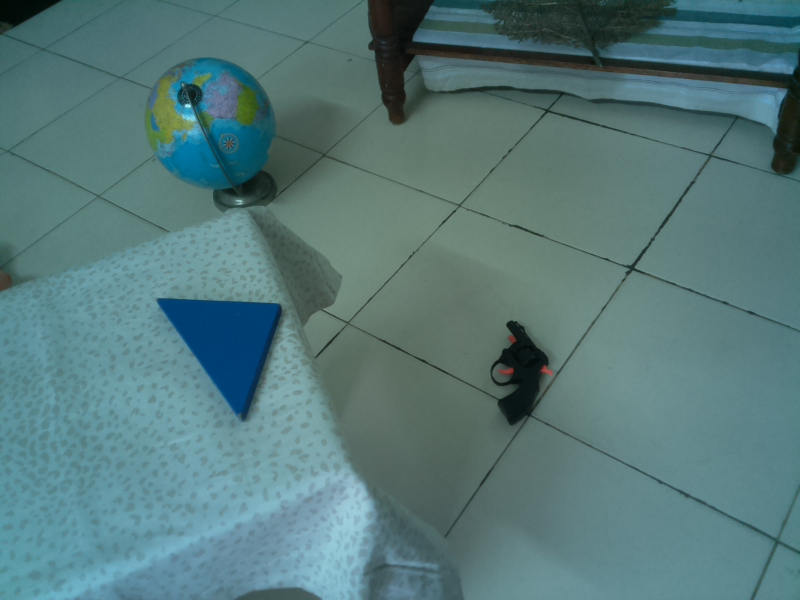Gun: (486, 315, 559, 426)
Triangle: (152, 293, 290, 425)
